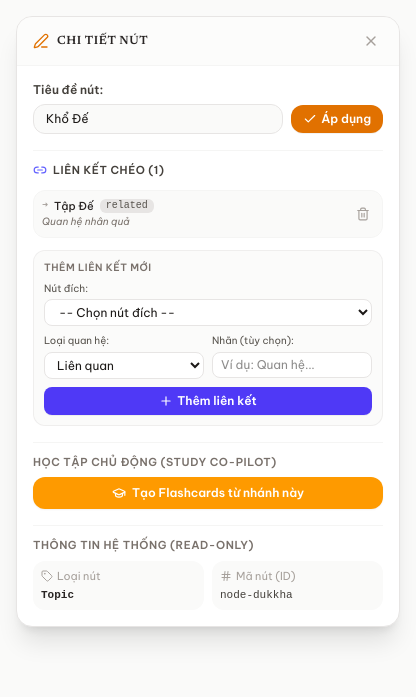
Test: Phase M5a — MindMapNodeDrawer Cross-Link Editing UI › Scenario 4: Rejects duplicate edge with same target and type
Expected: the element with test id "mindmap-crosslinks-section" is shown, [33,150,383,426]
// Attempt to add duplicate edge: same target "node-samudaya" and same type "related"
Select "Tập Đế (node-samudaya)" in the dropdown with test id "crosslink-target-select" at (208, 313), box [44,299,372,326]
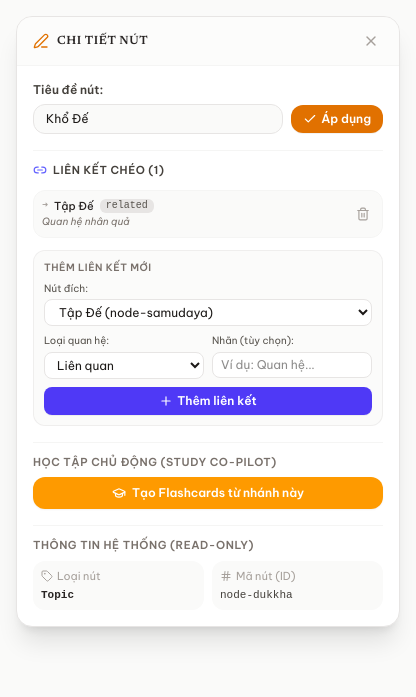
Select "Liên quan" in the dropdown with test id "crosslink-type-select" at (124, 365), box [44,352,204,379]
Click the button with test id "crosslink-add-btn" at (208, 401), box [44,387,372,415]
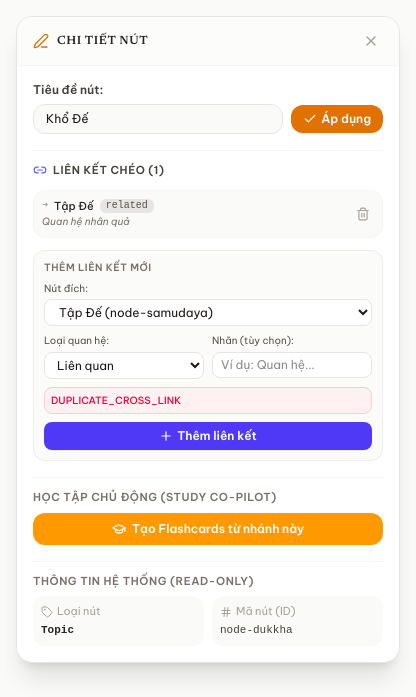
Now the text "DUPLICATE_CROSS_LINK" is shown, box [44,387,372,414]
